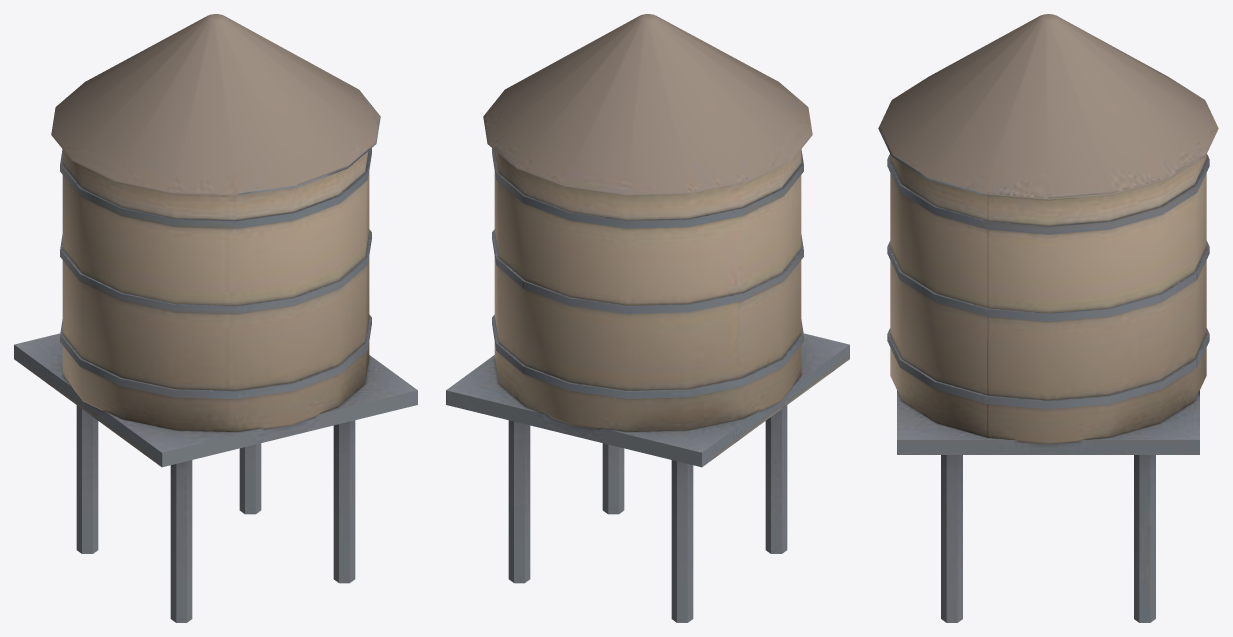
File: remate_deposito.glb
3 renders of one model, left to right at view 1: azimuth 30°, elevation 25°; view 2: azimuth 150°, elevation 25°; view 3: azimuth 270°, elevation 25°, orthographic. The views are drawn at different scales.
Visible parts, largest first — view 1: remate_deposito; view 2: remate_deposito; view 3: remate_deposito.
Boxes of the visible parts, x1,y1,x2,y2 form: remate_deposito: (14, 14, 417, 622); remate_deposito: (446, 14, 849, 622); remate_deposito: (878, 14, 1218, 622).
Bounding box in the file's own units: 2.47 × 4.5 × 2.47.
1 material, 1 textured.
